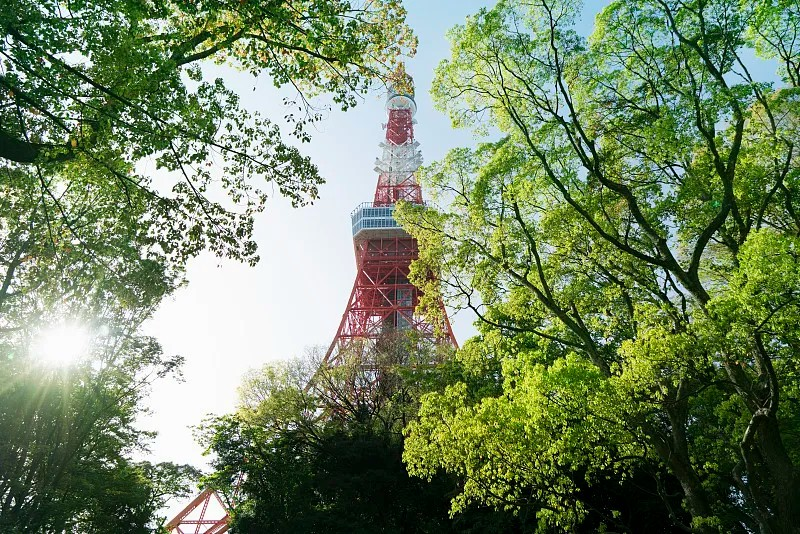Tokyo: (164, 39, 462, 533)
